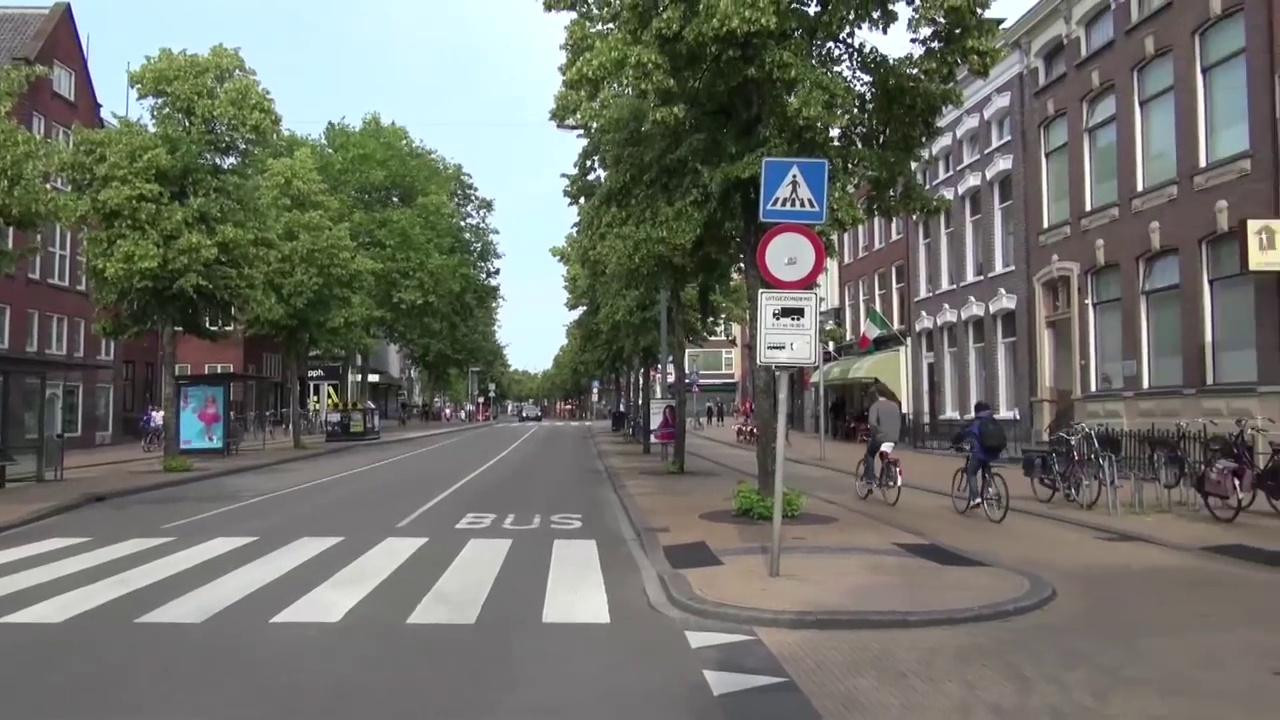cyclist_back: (943, 403, 1009, 524), (854, 382, 912, 516)
